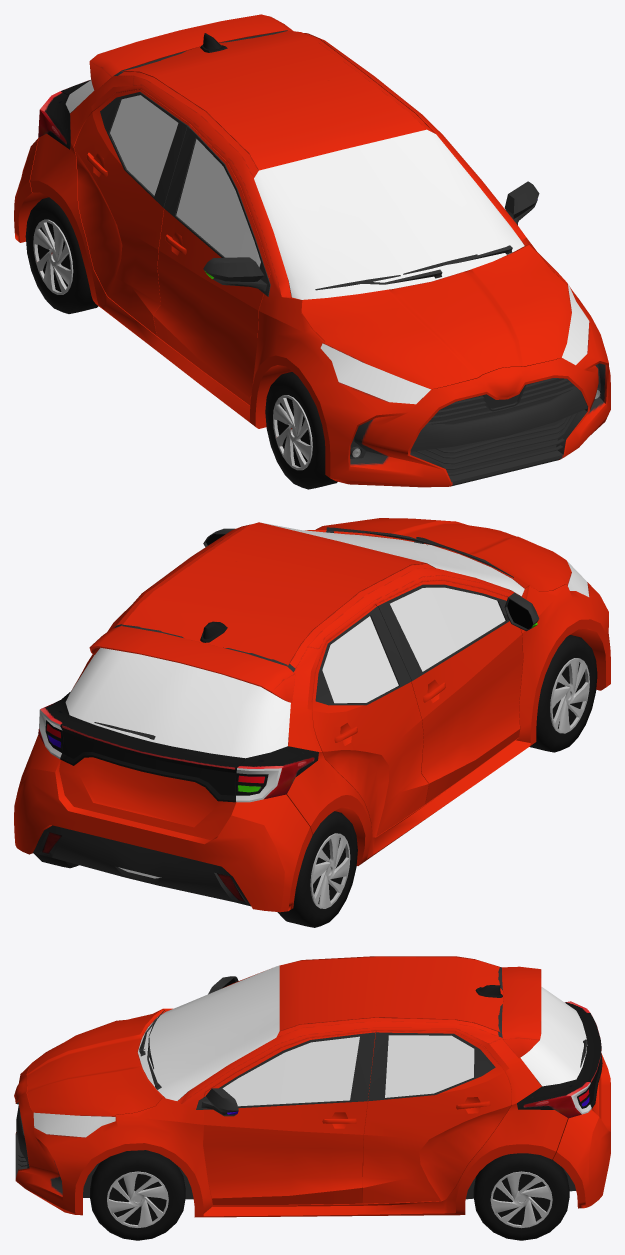
File: Hatchback.fbx
The picture shows the model from 3 angles, top to bottom: view 1: azimuth 30°, elevation 25°; view 2: azimuth 150°, elevation 25°; view 3: azimuth 270°, elevation 25°; orthographic projection. The views are drawn at different scales.
Parts seen in each view (by area): view 1: Body, Windows, Wheel_Front_R, Wheel_Rear_R; view 2: Body, Windows, Wheel_Rear_R, Wheel_Front_R, LightsDynamic; view 3: Body, Windows, Wheel_Front_L, Wheel_Rear_L.
Boxes of the visible parts, bbox=[...] form: Body: bbox=[14, 14, 610, 487]; Windows: bbox=[65, 80, 589, 404]; Wheel_Front_R: bbox=[265, 372, 337, 489]; Wheel_Rear_R: bbox=[25, 197, 98, 313]; Body: bbox=[14, 518, 610, 912]; Windows: bbox=[65, 522, 589, 758]; Wheel_Rear_R: bbox=[277, 811, 357, 927]; Wheel_Front_R: bbox=[529, 635, 597, 752]; LightsDynamic: bbox=[39, 623, 537, 878]; Body: bbox=[14, 956, 610, 1217]; Windows: bbox=[33, 965, 587, 1137]; Wheel_Front_L: bbox=[90, 1150, 185, 1240]; Wheel_Rear_L: bbox=[473, 1153, 569, 1240].
Size of what is drawn, in the model's own units: 202 by 148 by 394.
Materials: 8 (1 with a texture image).
